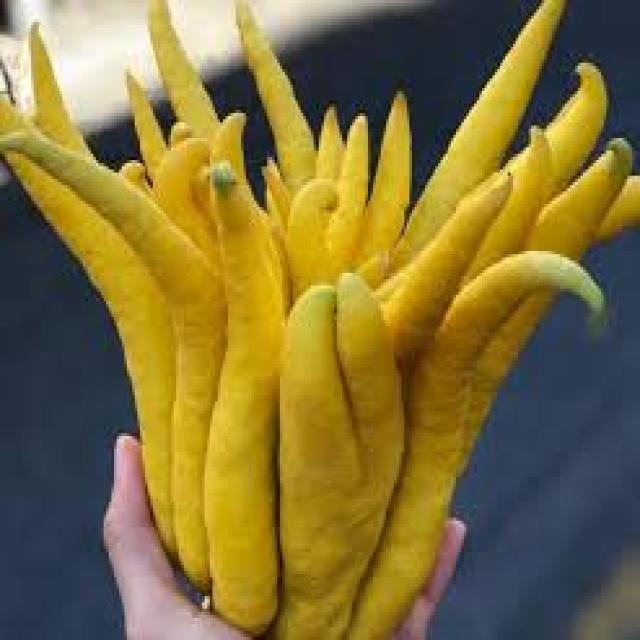PhatThu: (0, 8, 631, 631)
